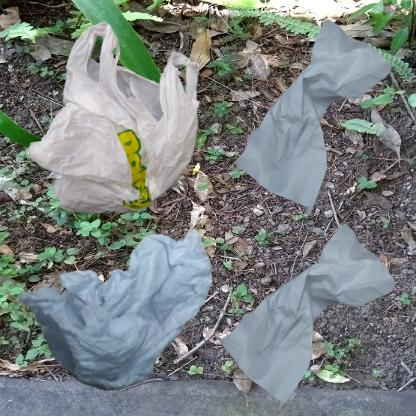bolsa: (10, 10, 257, 281)
papel: (213, 10, 416, 233), (10, 213, 219, 401), (213, 213, 403, 416)
